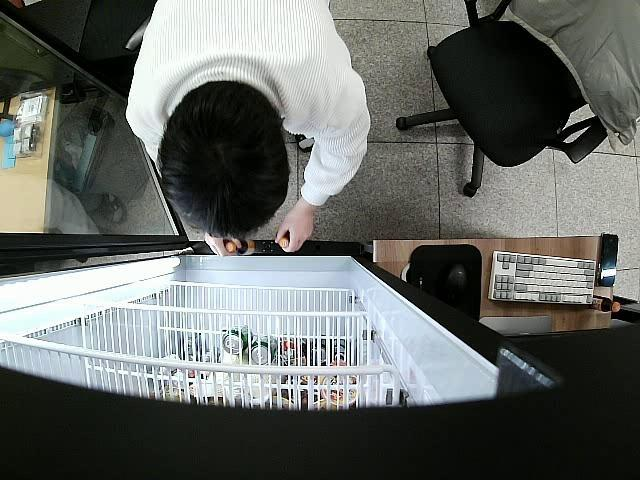17_vita500: (224, 240, 257, 256), (276, 234, 296, 252)
